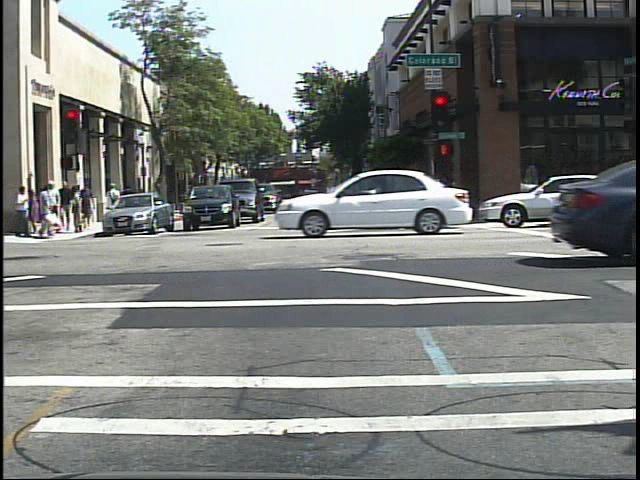person: (104, 179, 124, 225)
